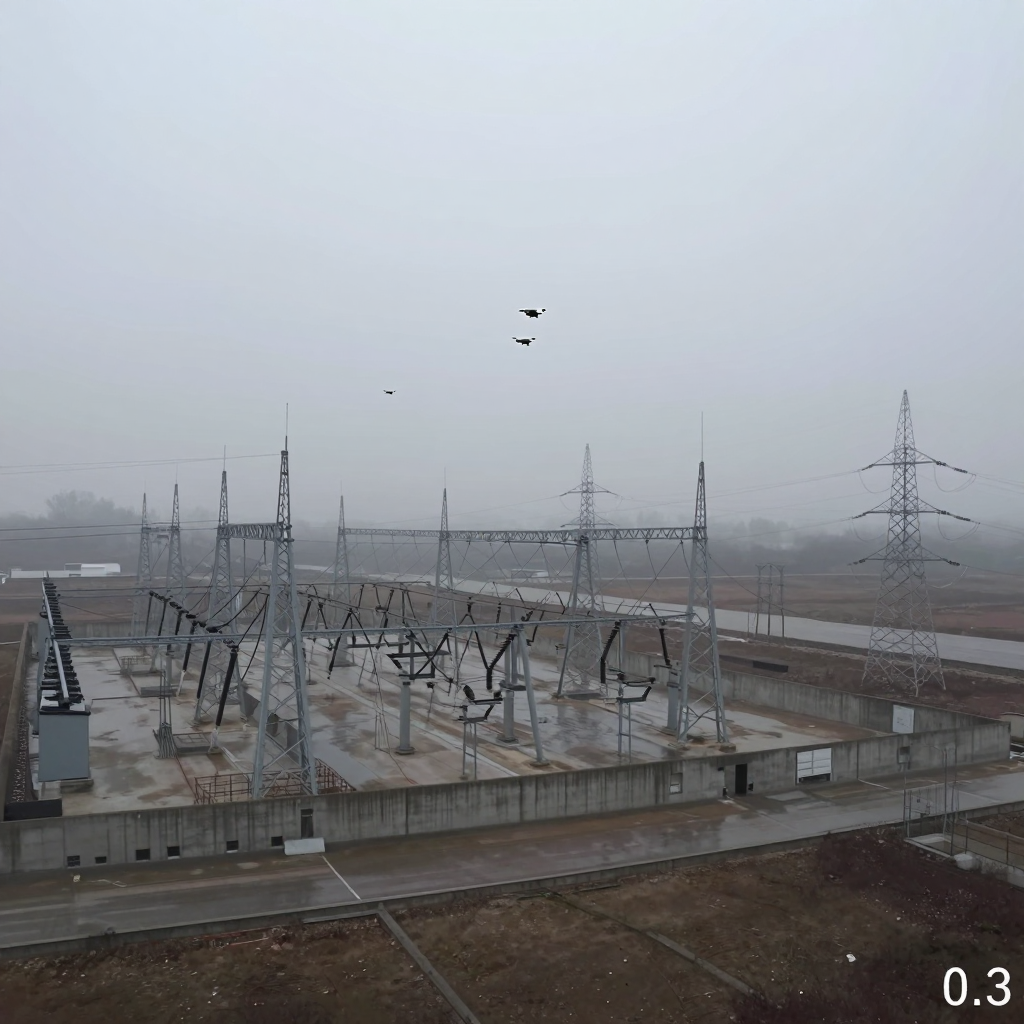drone: (519, 308, 546, 319), (512, 337, 536, 346), (383, 390, 396, 395)
